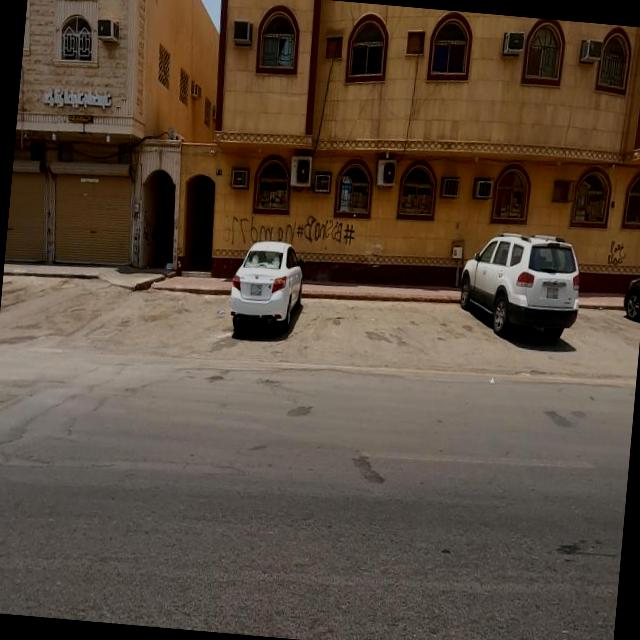debris: (148, 163, 434, 316)
